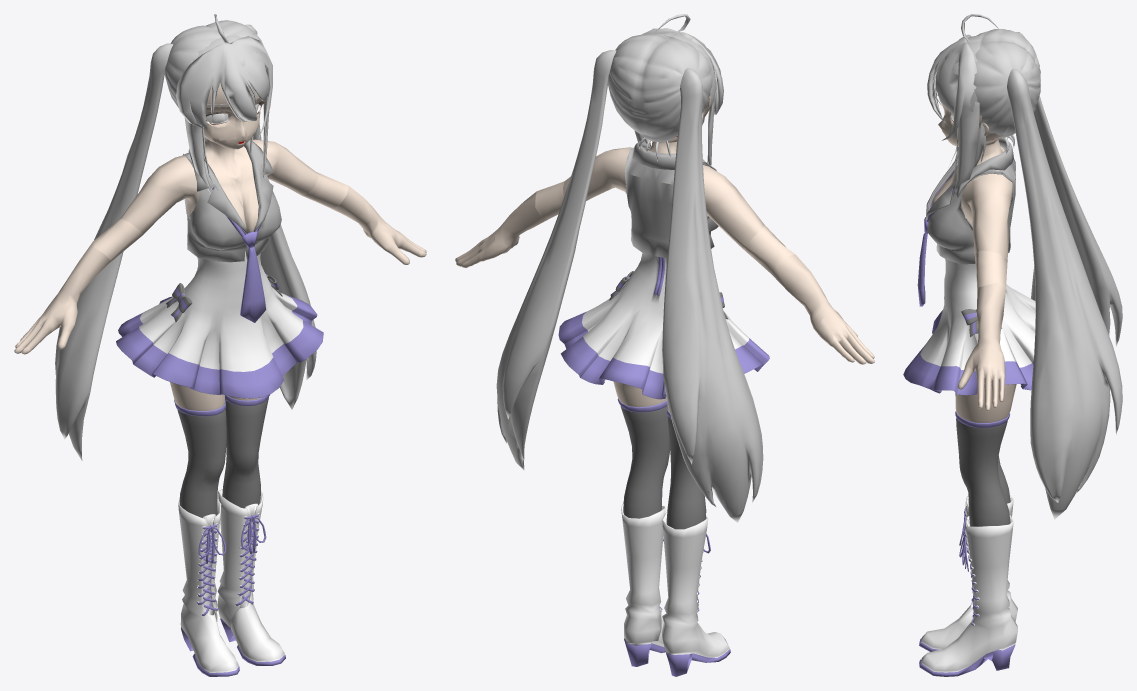
The model's file is Blossom Haku.fbx.
The picture shows the model from 3 angles, left to right: view 1: azimuth 30°, elevation 25°; view 2: azimuth 150°, elevation 25°; view 3: azimuth 270°, elevation 25°; orthographic projection.
Visible parts, largest first — view 1: Blossom Haku_mesh; view 2: Blossom Haku_mesh; view 3: Blossom Haku_mesh.
Boxes of the visible parts, x1,y1,x2,y2 form: Blossom Haku_mesh: (14, 14, 426, 676); Blossom Haku_mesh: (455, 14, 874, 676); Blossom Haku_mesh: (903, 14, 1122, 676).
Bounding box in the file's own units: 120 × 177 × 55.04.
